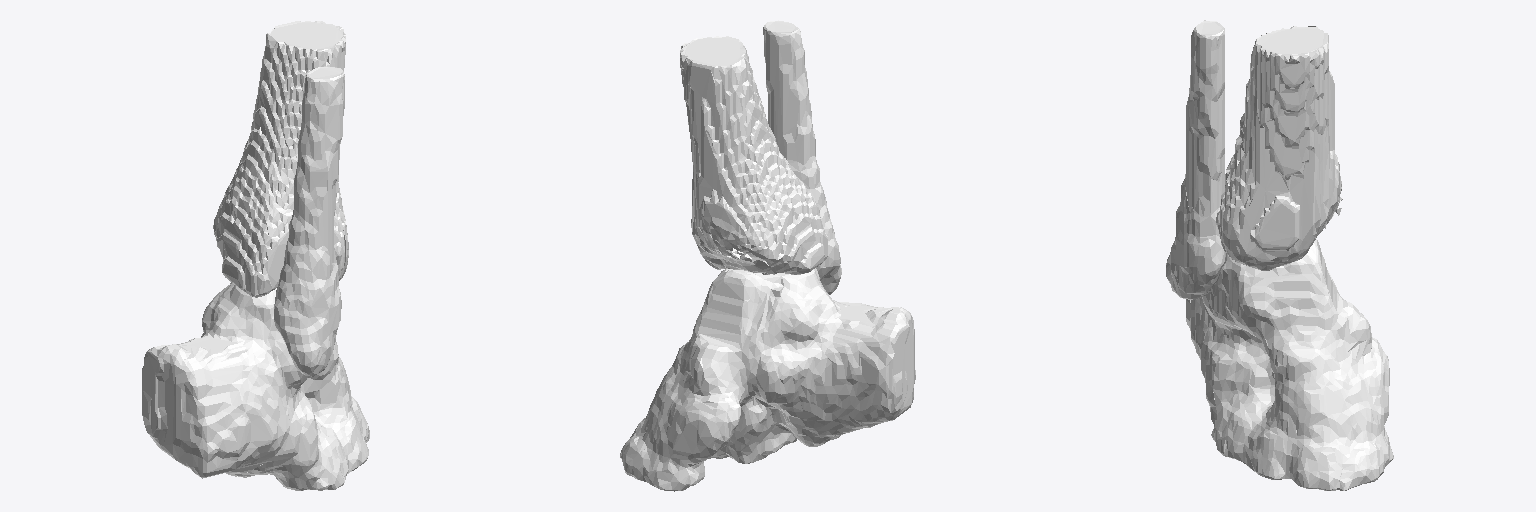
robot.urdf — proximal_126.obj:
<robot name="proximal_126.obj">
	<link name="proximal_126">
		<visual>
			<origin rpy="0.0 0.0 0" xyz="0 0 0" />
			<geometry>
				<mesh filename="proximal_1262.obj" scale="1 1 1" />
			</geometry>
			<material name="texture">
				<color rgba="1.0 1.0 1.0 1.0" />
			</material>
		</visual>
		<collision>
			<origin rpy="0.0 0.0 0.0" xyz="-0.0011134813482071794 -2.8658591686098536e-05 -0.0002525975163687258" />
			<geometry>
				<mesh filename="proximal_1262_vhacd.obj" scale="0.9 0.9 0.9" />
			</geometry>
		</collision>
		<inertial>
			<mass value="1.0" />
			<inertia ixx="1.0" ixy="0.0" ixz="0.0" iyy="1.0" iyz="0.0" izz="1.0" />
		</inertial>
	</link>

 <joint name="leg" type="fixed">
    <parent link="proximal_126"/>
    <child link="patient"/>
    <origin xyz="0.0009518 -0.5498613 0.04550867" rpy="1.57 0 0"/>
  </joint>
	
	<link name="patient">
		<visual>
			<origin rpy="0.0 0.0 0.0" xyz="0 0 0" />
			<geometry>
				<mesh filename="patient.obj" scale="0.5 0.5 0.5" />
			</geometry>
			<material name="texture">
				<color rgba="1.0 1.0 1.0 1.0" />
			</material>
		</visual>
		<collision>
			<origin rpy="0.0 0.0 0.0" xyz="0 0 0" />
			<geometry>
				<mesh filename="patient_vhacd.obj" scale="0.5 0.5 0.5" />
			</geometry>
		</collision>
		<inertial>
			<mass value="1.0" />
			<inertia ixx="1.0" ixy="0.0" ixz="0.0" iyy="1.0" iyz="0.0" izz="1.0" />
		</inertial>
	</link>
</robot>

--- What the picture shows (computed from the rendered views, not written in the file) ---
The picture shows the robot from 3 angles, left to right: view 1: azimuth 30°, elevation 25°; view 2: azimuth 150°, elevation 25°; view 3: azimuth 270°, elevation 25°; orthographic projection.
Model proximal_126.obj with 2 links and 1 joints (1 fixed), rooted at proximal_126, posed every joint at zero.
Links seen in each view (by area): view 1: proximal_126; view 2: proximal_126; view 3: proximal_126.
Link boxes in pixels (bbox=[...]): proximal_126: bbox=[142, 21, 369, 490]; proximal_126: bbox=[620, 20, 915, 491]; proximal_126: bbox=[1166, 20, 1393, 490].
Bounding box of the posed robot: 0.0876 × 0.0699 × 0.141 m (x, y, z).
Meshes: 2 distinct files referenced, 1 mesh visuals loaded (1 OBJ); not drawn: 1 (reference not matched to a file when rendering).
